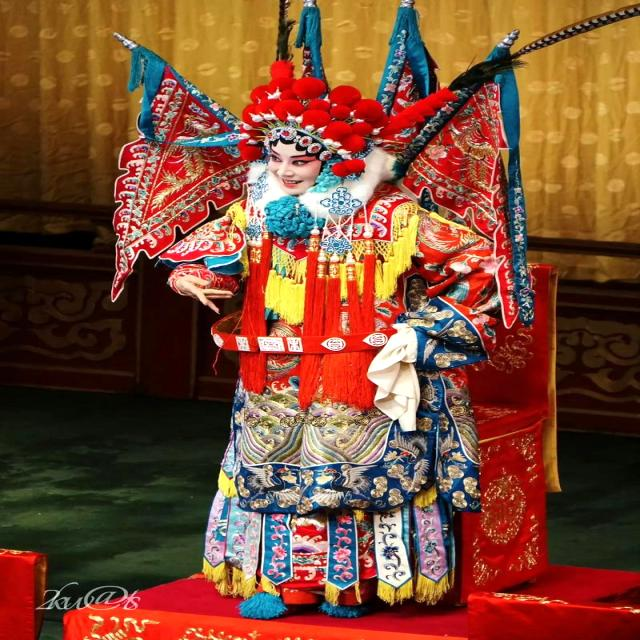Reeves-s Pheasant: (511, 4, 639, 60)
